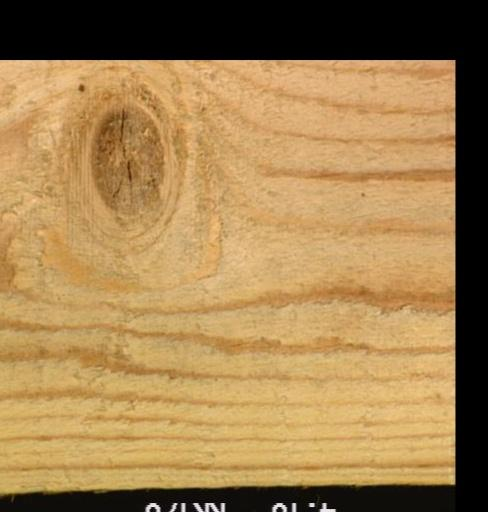small_knot: (71, 79, 87, 98)
sound_knot: (82, 99, 174, 223)
